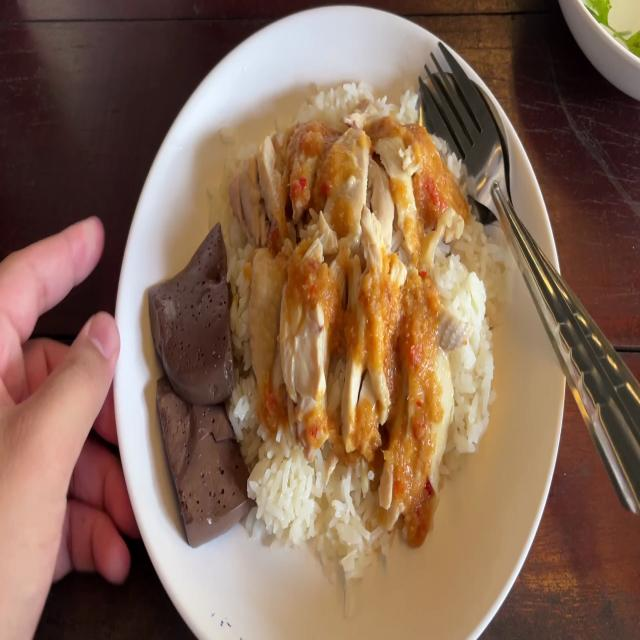chicken_rice: (252, 139, 442, 436)
noodle: (146, 220, 237, 408), (157, 355, 249, 538)
